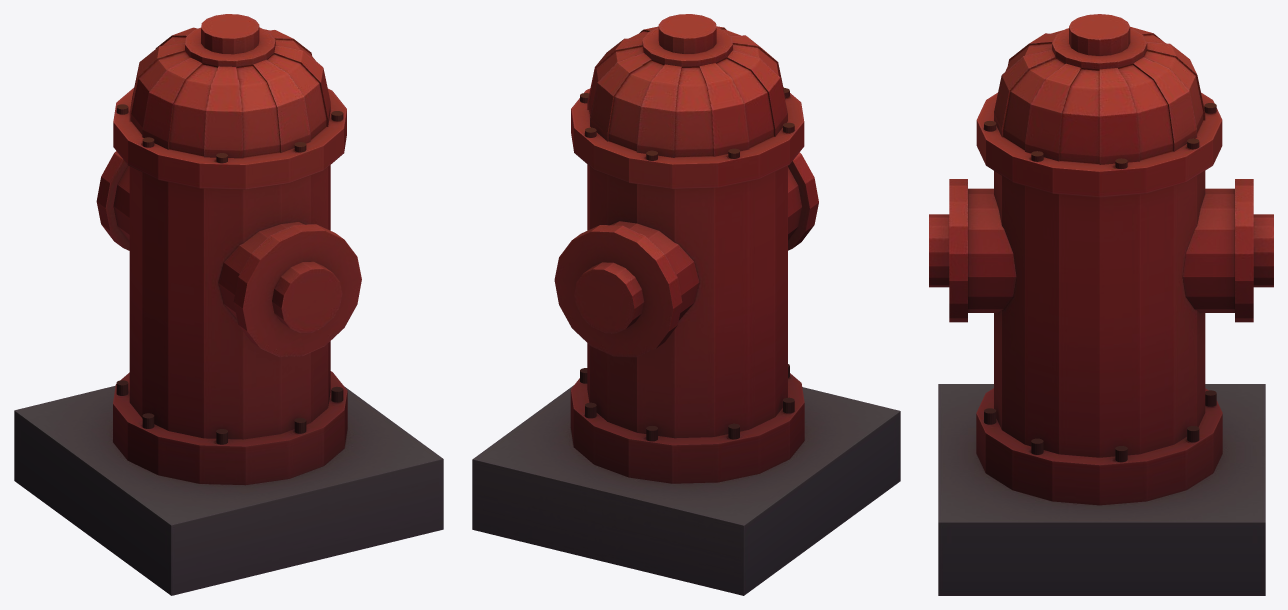
File: hidrante.glb
3 renders of one model, left to right at view 1: azimuth 30°, elevation 25°; view 2: azimuth 150°, elevation 25°; view 3: azimuth 270°, elevation 25°, orthographic. The views are drawn at different scales.
Parts seen in each view (by area): view 1: Cylinder.004, Cube.005, Cylinder.014; view 2: Cylinder.004, Cube.005, Cylinder.014; view 3: Cylinder.004, Cube.005, Cylinder.014.
Boxes of the visible parts, x1=… form: Cylinder.004: x1=96, y1=14, x2=361, y2=485; Cube.005: x1=14, y1=385, x2=443, y2=595; Cylinder.014: x1=116, y1=104, x2=343, y2=444; Cylinder.004: x1=554, y1=14, x2=818, y2=483; Cube.005: x1=472, y1=385, x2=900, y2=595; Cylinder.014: x1=580, y1=88, x2=794, y2=441; Cylinder.004: x1=929, y1=14, x2=1273, y2=505; Cube.005: x1=938, y1=384, x2=1265, y2=595; Cylinder.014: x1=984, y1=103, x2=1216, y2=462.
Bounding box in the file's own units: 0.5538 × 0.9329 × 0.5834.
3 materials, 3 textured.
